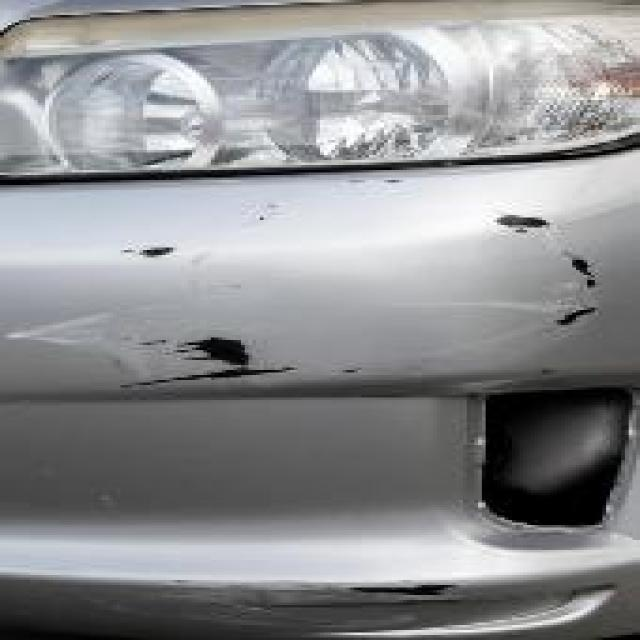Bumper: (3, 151, 640, 409)
